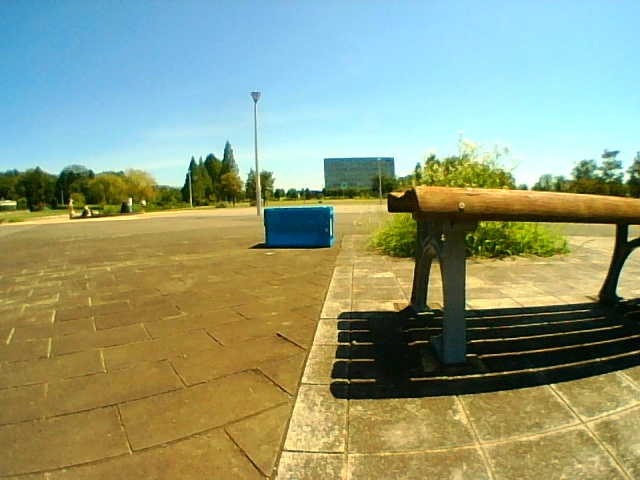blue_box: (266, 208, 333, 246)
tag: (329, 220, 334, 239)
